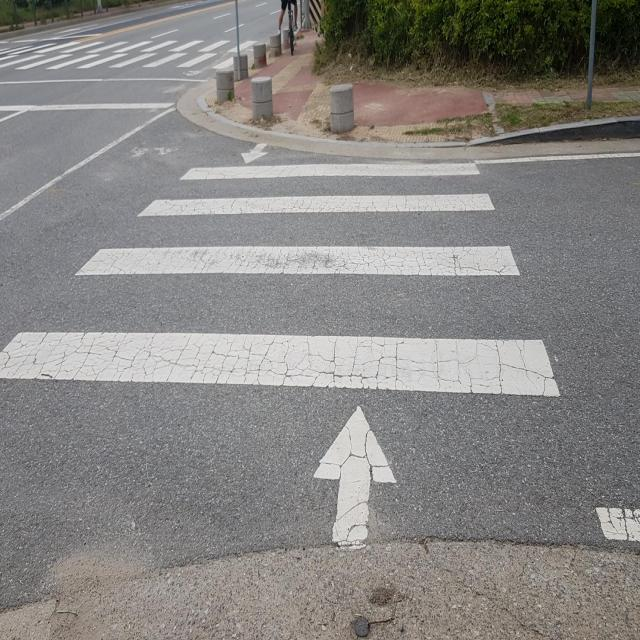횡단보도: (0, 141, 563, 552), (0, 38, 260, 72)
